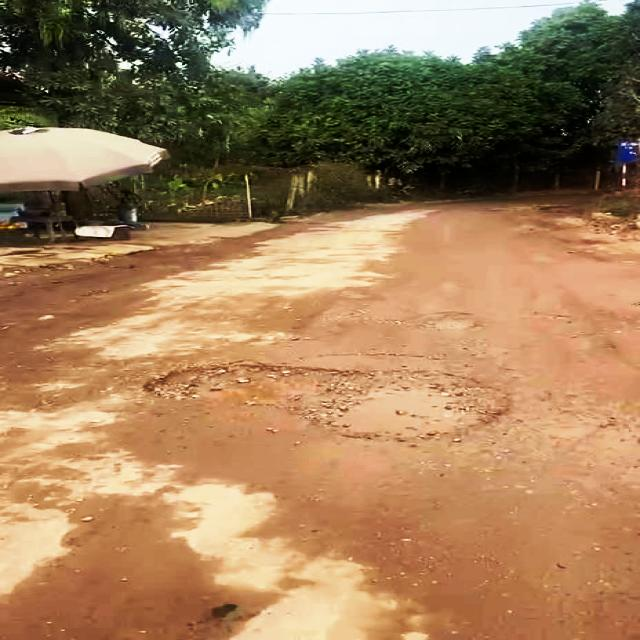pothole: (137, 359, 535, 447), (418, 314, 491, 334)
